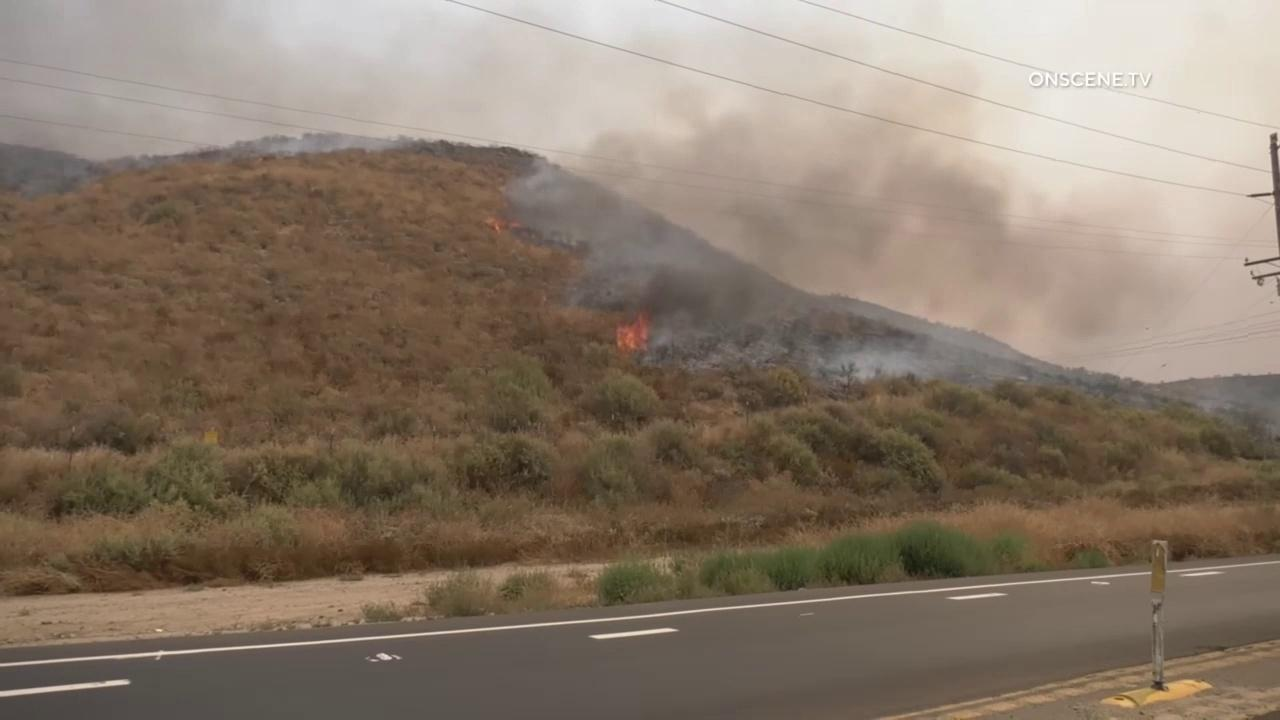fire: (616, 310, 650, 356), (492, 220, 502, 237), (509, 222, 521, 229)
smoke: (501, 57, 1193, 385), (0, 0, 403, 193)
